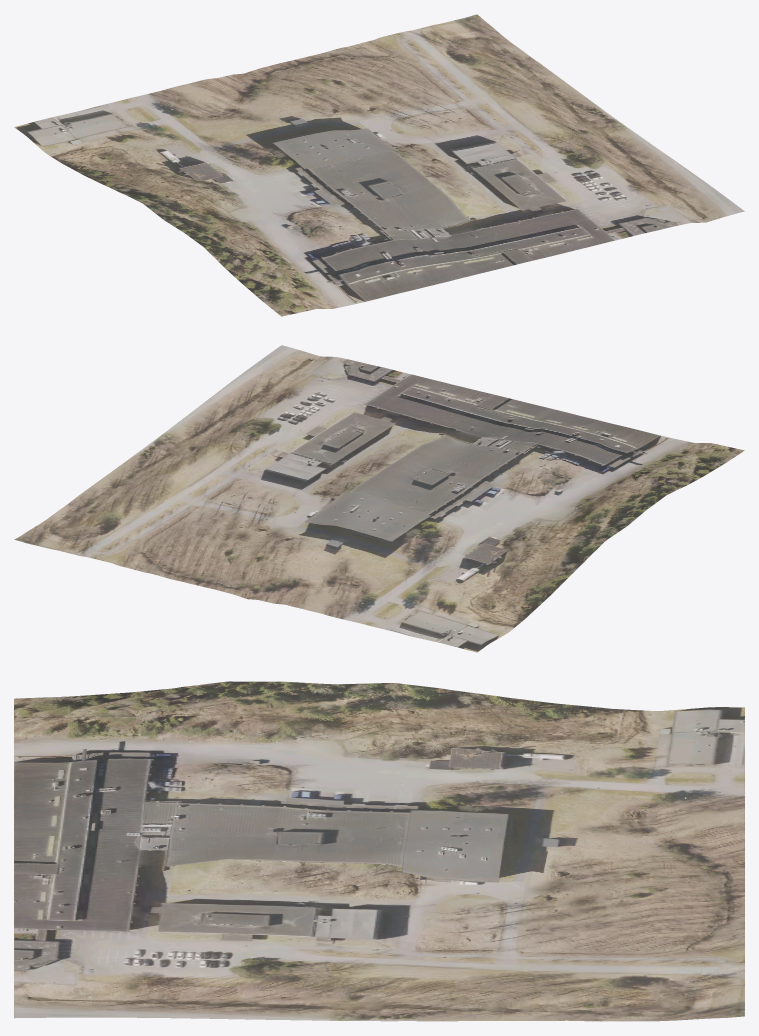
The model's file is CM_Terrain_24493530_6815493.fbx.
3 views of the same model, one above another, from view 1: azimuth 30°, elevation 25°; view 2: azimuth 150°, elevation 25°; view 3: azimuth 270°, elevation 25° (orthographic). The views are drawn at different scales.
Parts seen in each view (by area): view 1: CM_Terrain_24493530_6815493_LOD0; view 2: CM_Terrain_24493530_6815493_LOD0; view 3: CM_Terrain_24493530_6815493_LOD0.
Part boxes in pixels (x1,y1,x2,y2): CM_Terrain_24493530_6815493_LOD0: (14, 14, 744, 316); CM_Terrain_24493530_6815493_LOD0: (14, 345, 744, 652); CM_Terrain_24493530_6815493_LOD0: (14, 681, 744, 1021).
Size of what is drawn, in the model's own units: 205 by 10.44 by 205.
